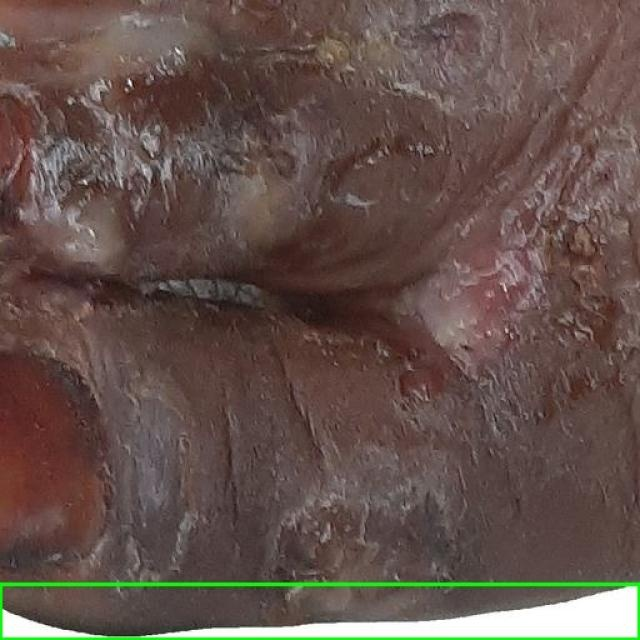Eczema: (0, 584, 639, 639)
